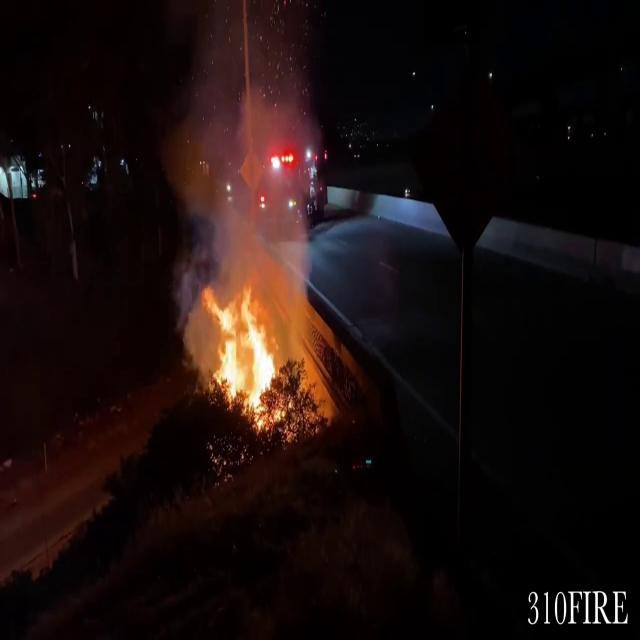Fire: (201, 283, 289, 427)
Smoke: (161, 22, 323, 276)
